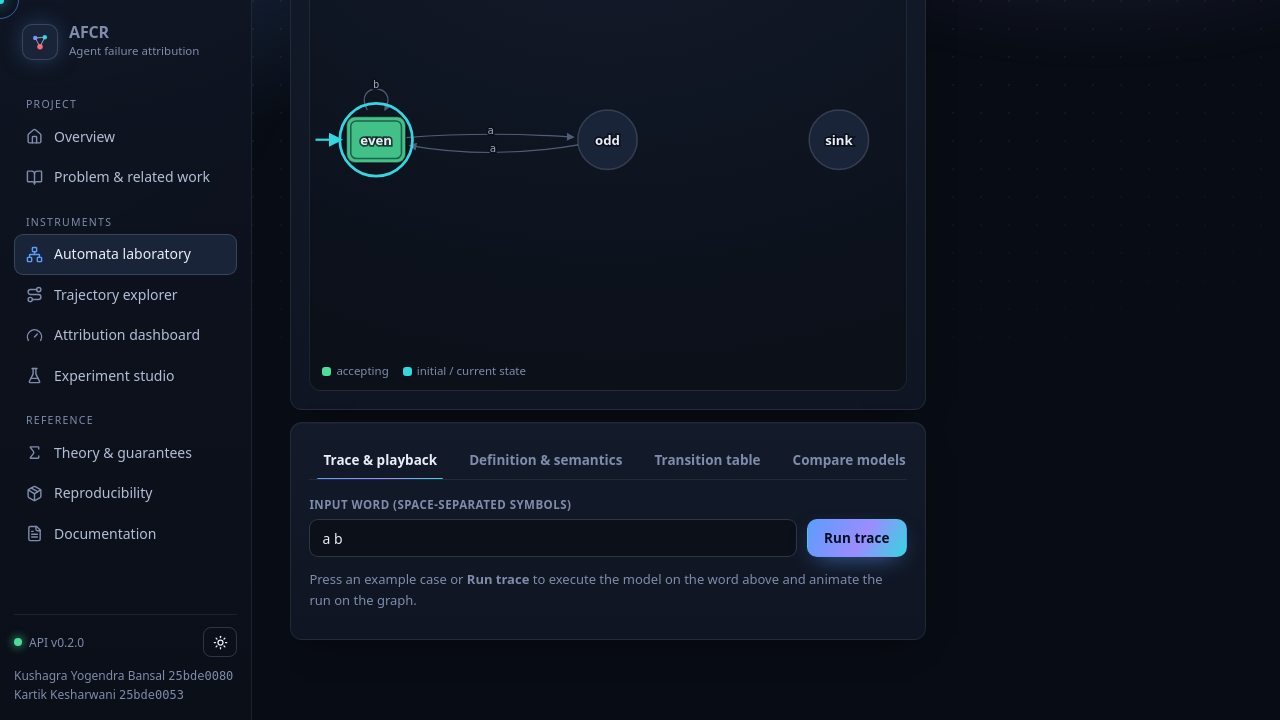
Test: automata laboratory › runs a trace and reports acceptance
This screenshot has width=1280, height=720.
(page scrolled)
Click the button with test id "run-trace" at (857, 538), box [807, 519, 907, 557]
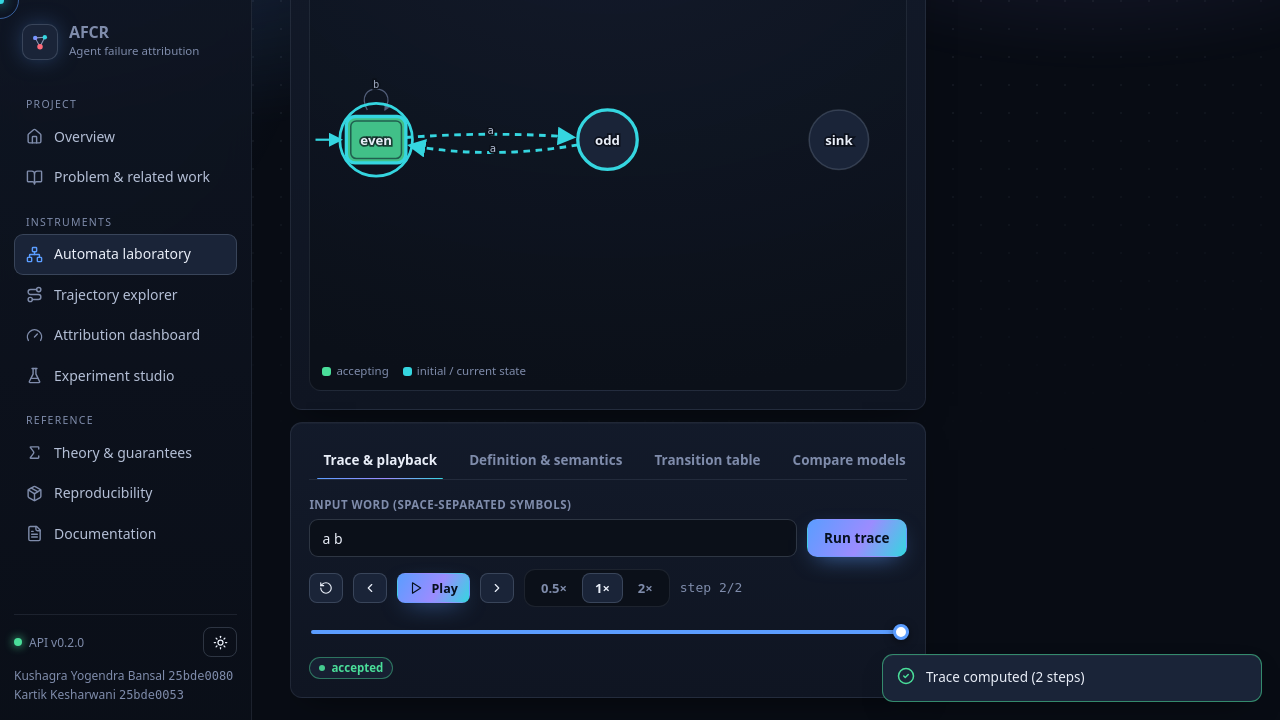
expect the text "accepted" is shown: met, box [309, 657, 393, 679]
